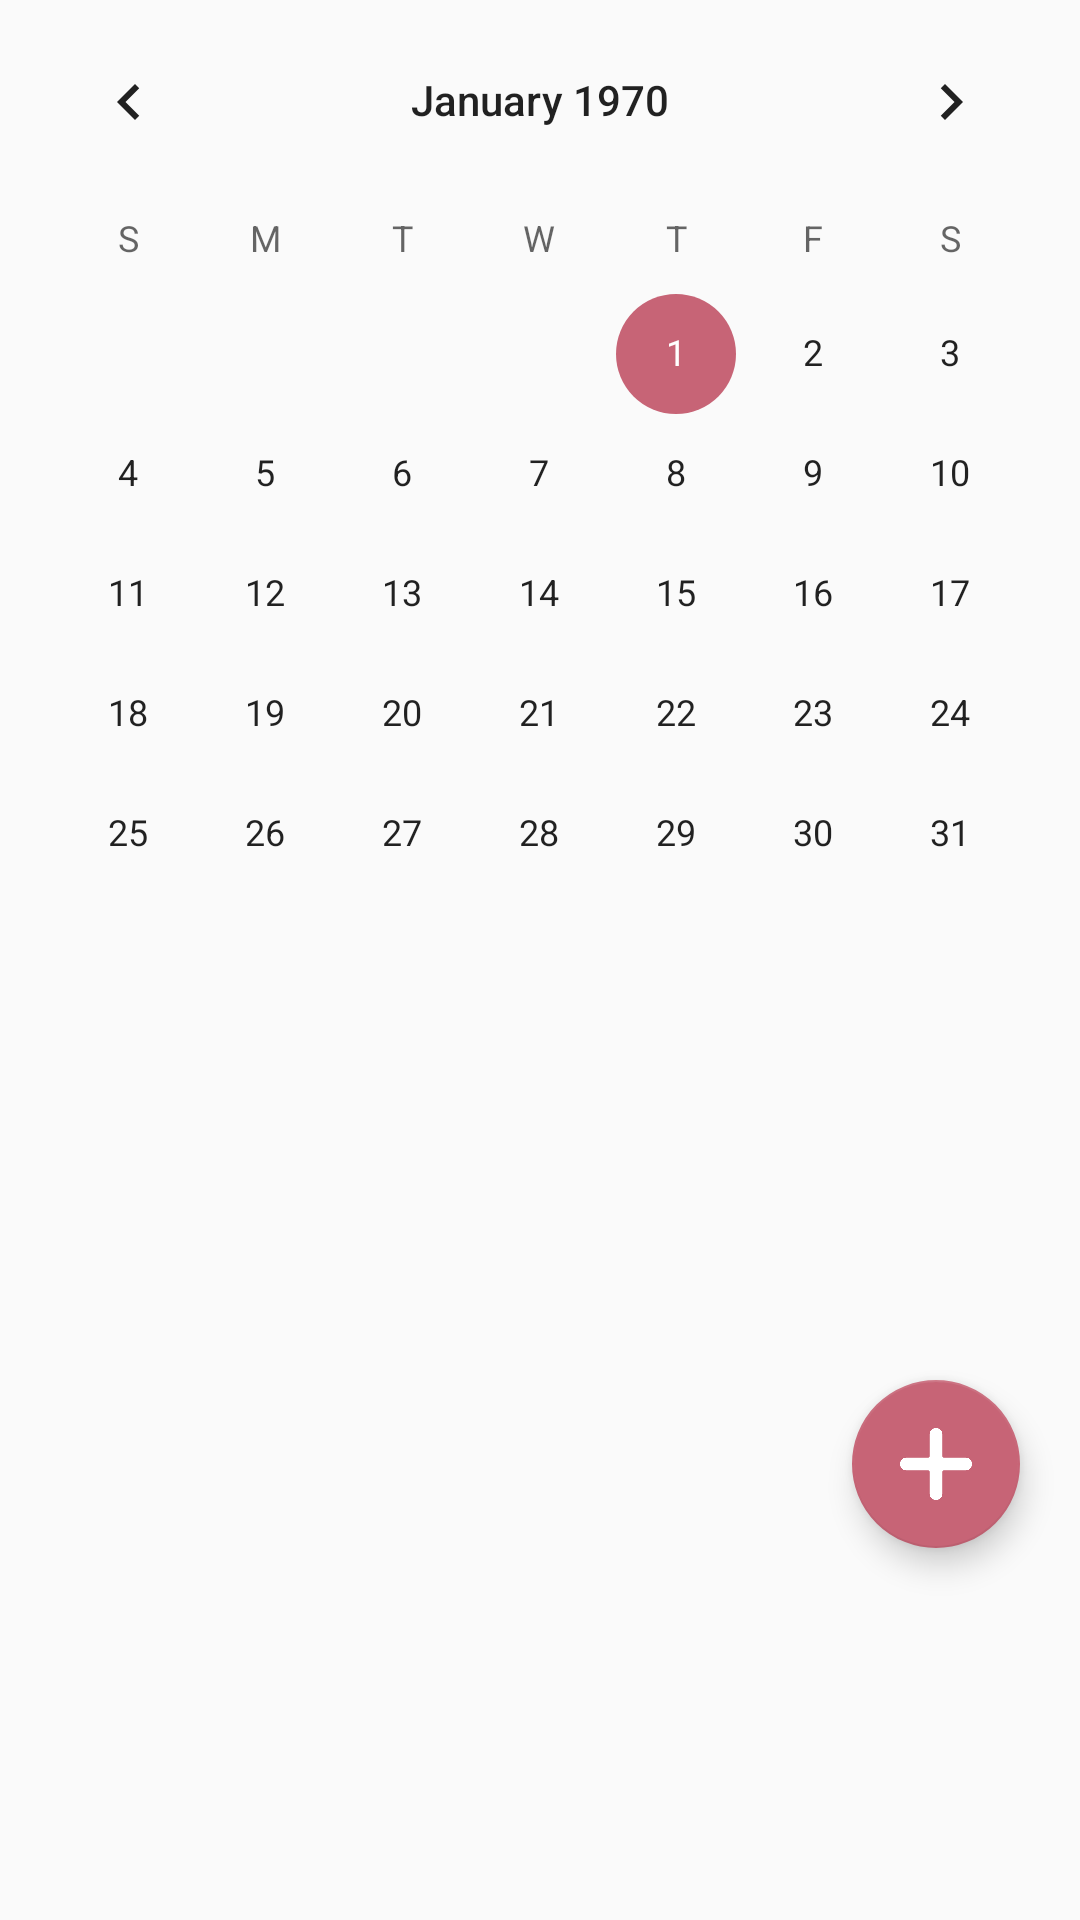

Screen size 1080px x 1920px. Icon name, then its box in pixels as box(x1, y1, x2, y2):
add: box(852, 1380, 1020, 1548)
